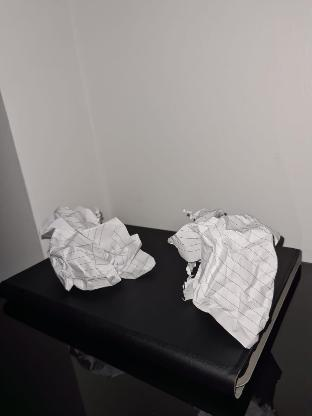Paper: (174, 200, 282, 342), (39, 202, 159, 290)
